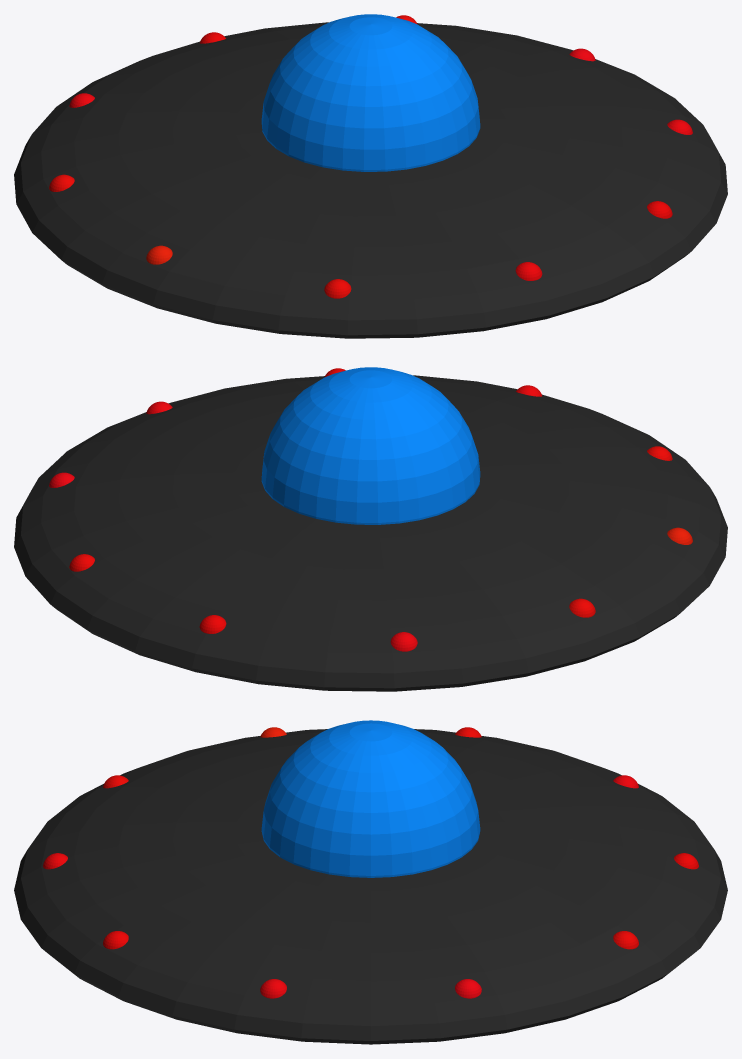
File: ufo .fbx
3 views of the same model, one above another, from view 1: azimuth 30°, elevation 25°; view 2: azimuth 150°, elevation 25°; view 3: azimuth 270°, elevation 25° (orthographic).
Parts seen in each view (by area): view 1: Esfera UV, Esfera UV.001; view 2: Esfera UV, Esfera UV.001; view 3: Esfera UV, Esfera UV.001.
Part boxes in pixels (x1,y1,x2,y2): Esfera UV: (14,22,727,338); Esfera UV.001: (261,14,480,171); Esfera UV: (14,375,727,691); Esfera UV.001: (261,367,480,524); Esfera UV: (14,729,727,1044); Esfera UV.001: (261,720,480,877).
Bounding box in the file's own units: 772 × 198 × 772.
